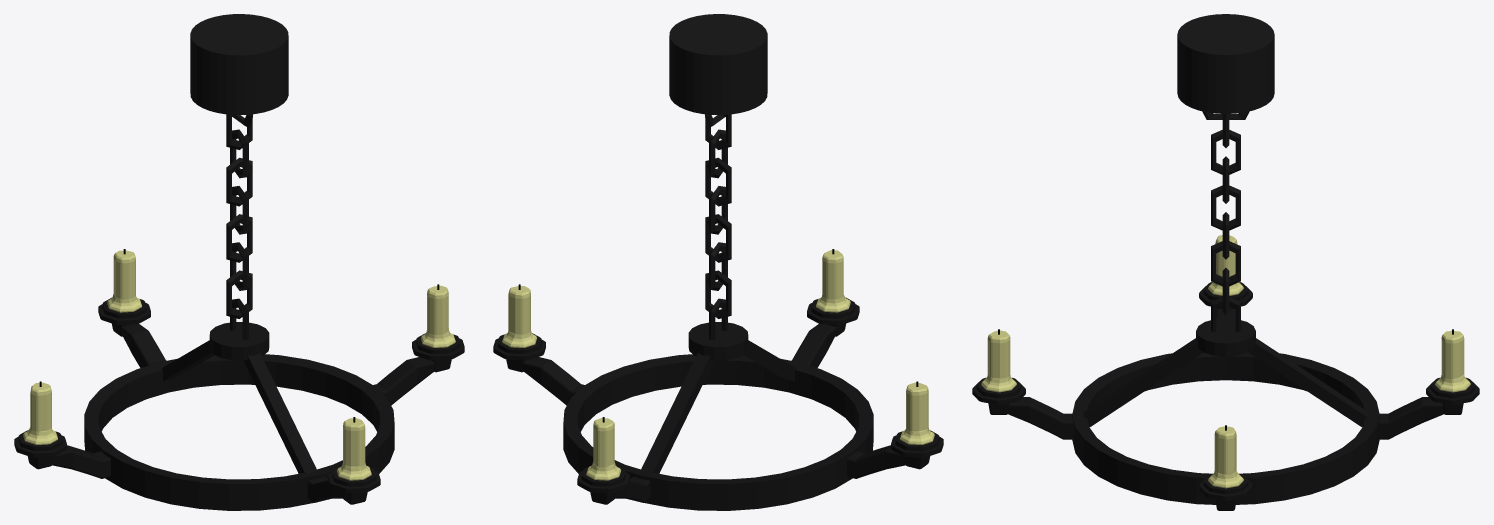
The model's file is CandleHolder.obj.
The picture shows the model from 3 angles, left to right: view 1: azimuth 30°, elevation 25°; view 2: azimuth 150°, elevation 25°; view 3: azimuth 270°, elevation 25°; orthographic projection.
Parts seen in each view (by area): view 1: Circle, Cylinder, Cylinder.003, Cylinder.001, Cylinder.005, Cylinder.004, Cube.001, Cylinder.002, Cube, Torus.005, Torus.003, Torus.001 (+3 smaller); view 2: Circle, Cylinder, Cylinder.003, Cylinder.001, Cylinder.004, Cylinder.005, Cube, Cylinder.002, Cube.001, Torus.005, Torus.003, Torus.001 (+3 smaller); view 3: Circle, Cylinder, Cylinder.005, Cylinder.004, Cylinder.003, Cylinder.002, Cube, Cube.001, Cylinder.001, Torus.004, Torus.002, Torus.006.
Boxes of the visible parts, x1,y1,x2,y2 form: Circle: (84, 354, 394, 510); Cylinder: (190, 14, 288, 127); Cylinder.003: (373, 284, 464, 405); Cylinder.001: (14, 381, 110, 478); Cylinder.005: (98, 249, 166, 367); Cylinder.004: (307, 417, 380, 504); Cube.001: (244, 353, 317, 473); Cylinder.002: (209, 298, 269, 360); Cube: (161, 340, 214, 380); Torus.005: (226, 157, 252, 206); Torus.003: (226, 214, 252, 262); Torus.001: (226, 270, 252, 318); Circle: (563, 354, 873, 510); Cylinder: (669, 14, 767, 127); Cylinder.003: (493, 284, 584, 405); Cylinder.001: (847, 381, 943, 478); Cylinder.004: (791, 249, 859, 367); Cylinder.005: (577, 417, 650, 504); Cube: (640, 353, 713, 473); Cylinder.002: (688, 298, 748, 360); Cube.001: (743, 340, 796, 380); Torus.005: (705, 157, 731, 206); Torus.003: (705, 214, 731, 262); Torus.001: (705, 270, 731, 318); Circle: (1072, 352, 1379, 504); Cylinder: (1177, 14, 1274, 119); Cylinder.005: (1378, 329, 1479, 439); Cylinder.004: (972, 329, 1073, 439); Cylinder.003: (1199, 425, 1252, 510); Cylinder.002: (1196, 297, 1255, 356); Cube: (1248, 338, 1368, 427); Cube.001: (1083, 338, 1203, 427); Cylinder.001: (1199, 235, 1252, 318); Torus.004: (1211, 185, 1240, 230); Torus.002: (1211, 241, 1240, 286); Torus.006: (1211, 130, 1240, 174).
Size of the model in its own units: 36.34 by 32.07 by 36.34.
